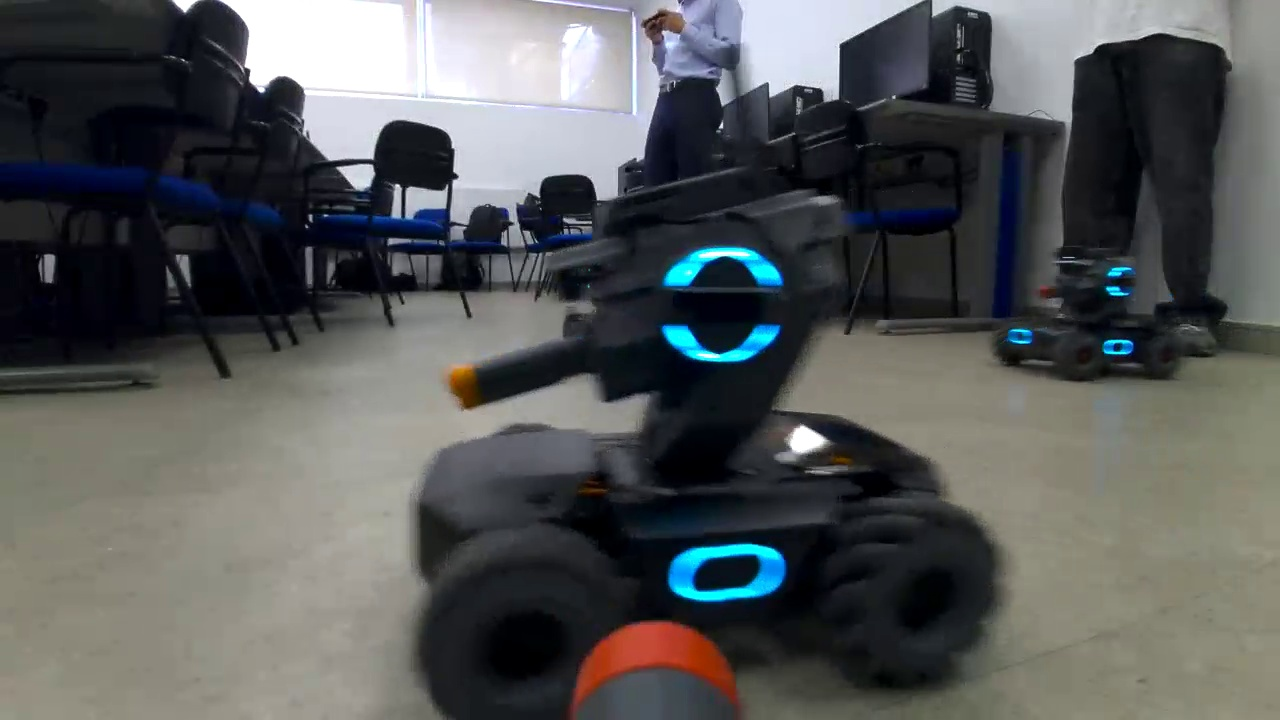robot: (404, 131, 1015, 720), (990, 241, 1183, 388)
